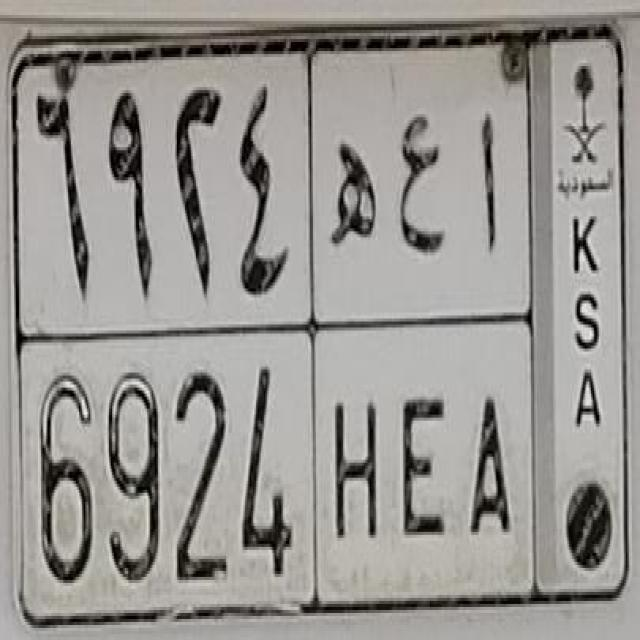license_plate: (10, 26, 632, 624)
